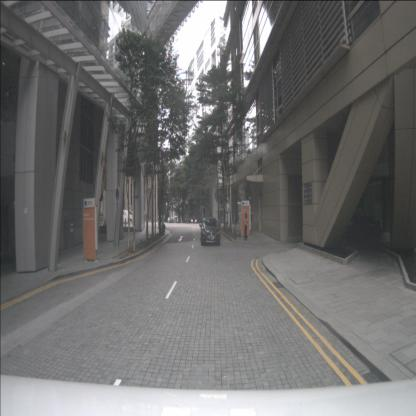human-pedestrian-adult: (244, 212, 249, 242)
vehicle-car: (200, 218, 221, 246), (116, 209, 134, 223), (189, 216, 197, 224)
